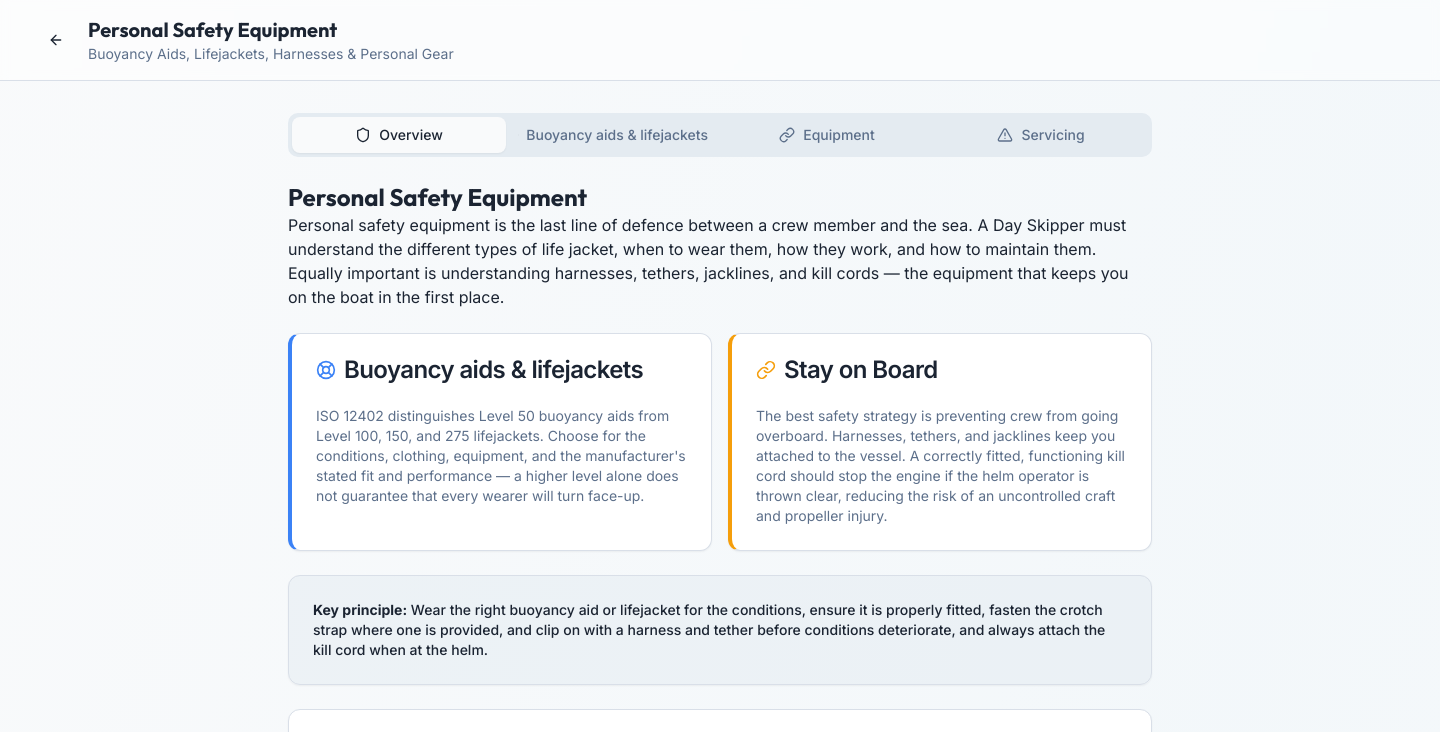
Test case: PersonalSafetyTheory Page › should cover crotch straps (AC-1)
Click the tab "Buoyancy aids & lifejackets" at (613, 135), box top-left (506, 117), bottom-right (720, 153)
(page scrolled)
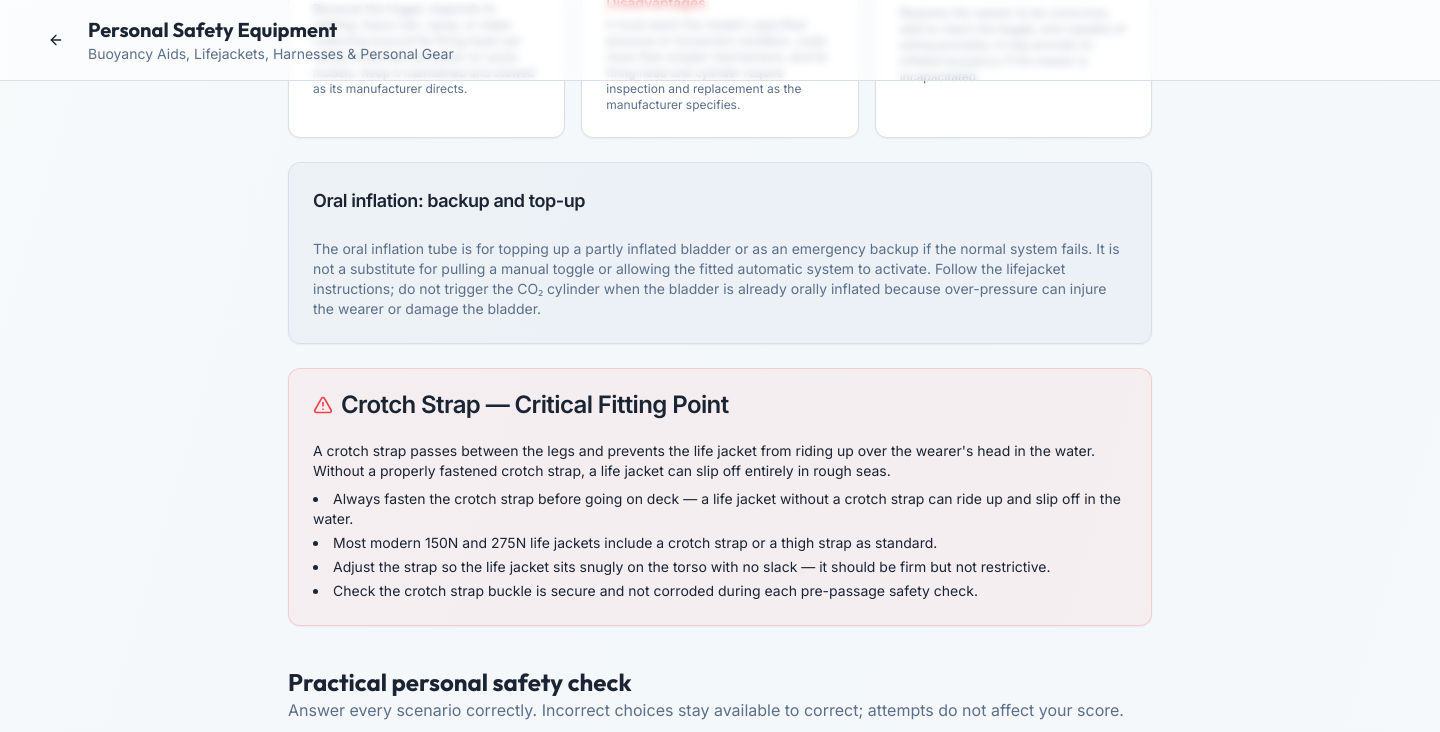
Result: the text "Crotch Strap — Critical Fitting Point" is shown at top-left (313, 390), bottom-right (729, 419)
